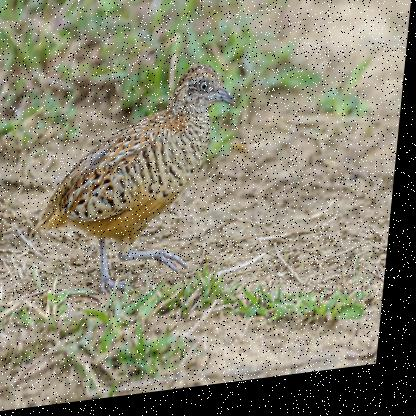Burung: (32, 64, 240, 305)
